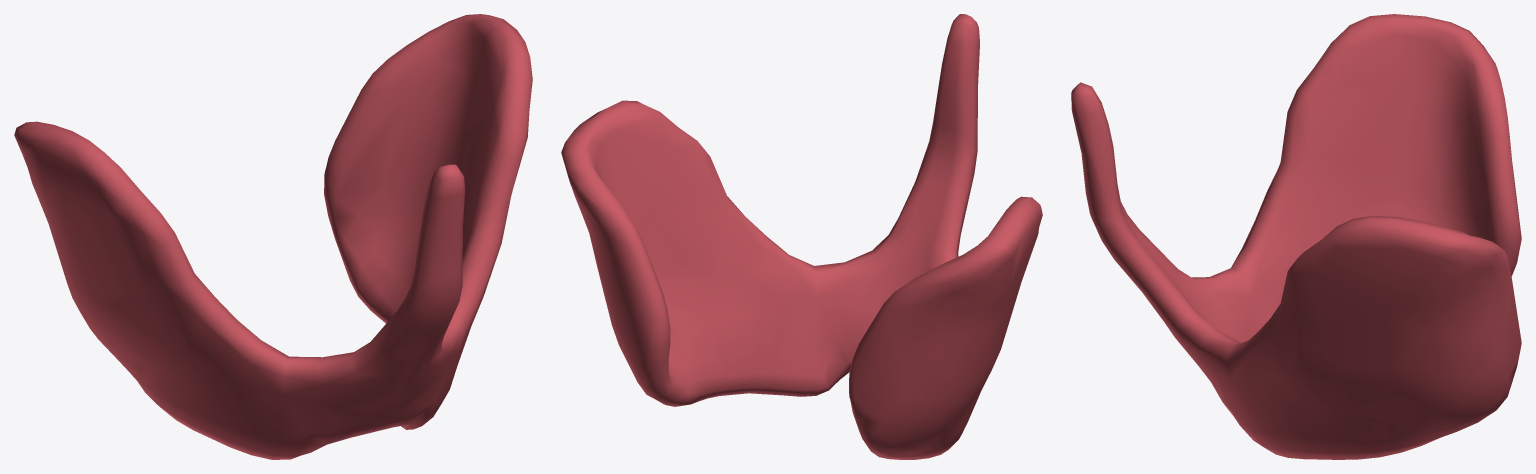
Rendered from visceras-thyroid-gland.glb.
3 views of the same model, side by side, from view 1: azimuth 30°, elevation 25°; view 2: azimuth 150°, elevation 25°; view 3: azimuth 270°, elevation 25° (orthographic). The views are drawn at different scales.
Parts seen in each view (by area): view 1: Thyroid gland; view 2: Thyroid gland; view 3: Thyroid gland.
Part boxes in pixels (box(x1,y1,x2,y2)): Thyroid gland: box(14, 14, 532, 459); Thyroid gland: box(561, 14, 1042, 459); Thyroid gland: box(1071, 14, 1521, 459).
Bounding box in the file's own units: 0.0486 × 0.0341 × 0.0416.
